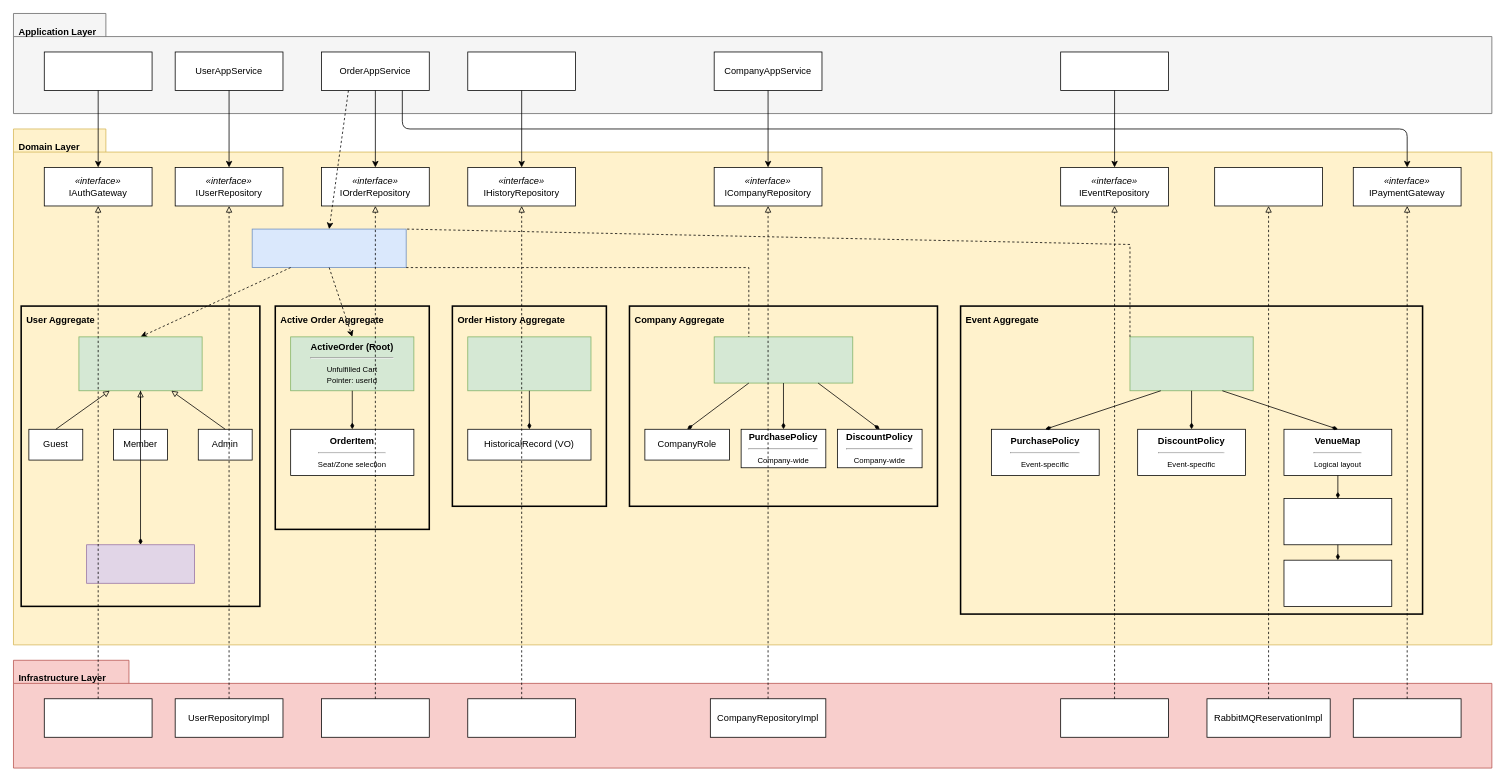
The diagram is 1505 pixels wide and 782 high, and some of its shapes have lost their labels. The centre of each missing label's shape, as x and y in pixels:
AuthAppService: (x=98, y=70)
CheckoutDomainService: (x=328, y=248)
Event (Root) Show details & dates Pointer: companyId: (x=1191, y=363)
EventAppService: (x=1114, y=70)
EventRepositoryImpl: (x=1114, y=717)
HistoryAppService: (x=521, y=70)
HistoryRepositoryImpl: (x=521, y=717)
JwtAuthLibraryImpl: (x=98, y=717)
OrderHistory (Root) Immutable Record Pointer: userId: (x=529, y=363)
OrderRepositoryImpl: (x=375, y=717)
ProductionCompany (Root) Organizer Entity: (x=783, y=359)
Seat Marked chair: (x=1337, y=582)
SessionToken (VO) Holds JWT Key: (x=140, y=563)
StripePaymentImpl: (x=1407, y=717)
User (Root) State: Active/Inactive Pointer: activeOrderId: (x=140, y=363)
Zone Standing / Seated: (x=1337, y=521)
«interface» IReservationQueue: (x=1268, y=186)
